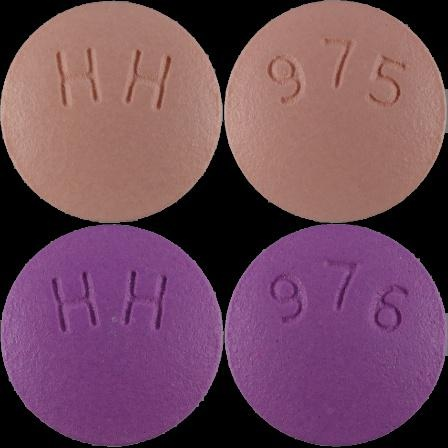43547-271: (0, 0, 224, 224)
